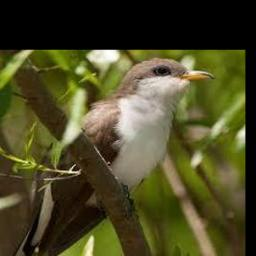Cuckoo: (0, 57, 216, 256)
